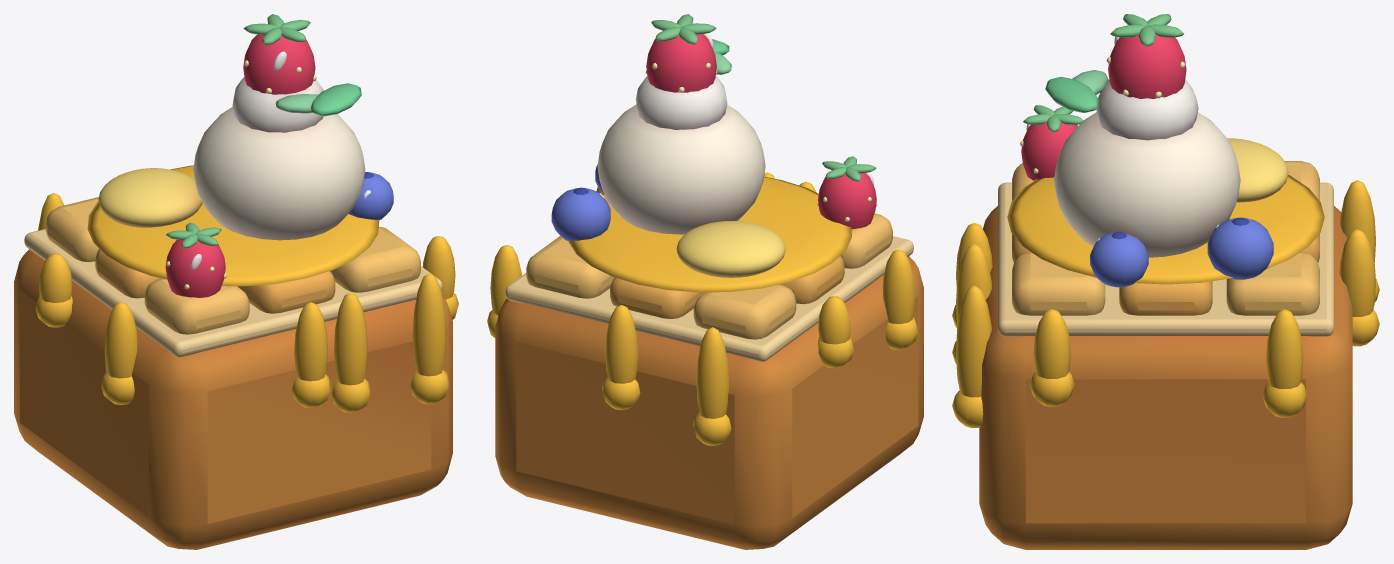
File: honeytoast.glb
3 renders of one model, left to right at view 1: azimuth 30°, elevation 25°; view 2: azimuth 150°, elevation 25°; view 3: azimuth 270°, elevation 25°, orthographic. The views are drawn at different scales.
Parts seen in each view (by area): view 1: crust, gffc43a, scoop, cf6c26a, crumb, gf04466, butter, cf0b055, cream, c7cc68a, g6c7fe0, mint_a (+1 smaller); view 2: crust, gffc43a, scoop, cf6c26a, crumb, gf04466, butter, cf0b055, cream, g6c7fe0, c7cc68a; view 3: crust, gffc43a, scoop, crumb, cf6c26a, gf04466, g6c7fe0, cream, cf0b055, butter, c7cc68a, mint_a (+1 smaller).
Boxes of the visible parts, box(x1,y1,x2,y2) form: crust: box(14, 249, 452, 549); gffc43a: box(35, 165, 458, 412); scoop: box(193, 107, 365, 240); cf6c26a: box(45, 197, 420, 334); crumb: box(24, 229, 442, 357); gf04466: box(165, 34, 315, 297); butter: box(98, 168, 202, 227); cf0b055: box(95, 249, 335, 313); cream: box(232, 77, 323, 132); c7cc68a: box(166, 14, 310, 248); g6c7fe0: box(348, 172, 393, 220); mint_a: box(311, 83, 361, 116); crust: box(495, 256, 923, 549); gffc43a: box(487, 172, 918, 445); scoop: box(597, 104, 765, 234); cf6c26a: box(526, 213, 892, 339); crumb: box(505, 236, 913, 361); gf04466: box(646, 34, 876, 229); butter: box(676, 221, 785, 277); cf0b055: box(610, 256, 844, 318); cream: box(635, 76, 727, 129); g6c7fe0: box(551, 165, 610, 240); c7cc68a: box(651, 14, 876, 181); crust: box(979, 206, 1352, 549); gffc43a: box(952, 175, 1379, 427); scoop: box(1054, 112, 1240, 257); crumb: box(998, 182, 1333, 336); cf6c26a: box(1012, 161, 1319, 315); gf04466: box(1021, 34, 1186, 180); g6c7fe0: box(1090, 217, 1273, 287); cream: box(1096, 79, 1198, 140); cf0b055: box(1012, 234, 1319, 315); butter: box(1227, 138, 1288, 202); c7cc68a: box(1023, 14, 1183, 132); mint_a: box(1045, 76, 1099, 112).
Bounding box in the file's own units: 0.4557 × 0.57 × 0.458.
